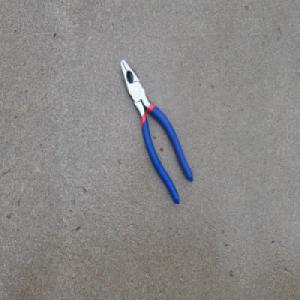Pliers: (119, 58, 194, 205)
